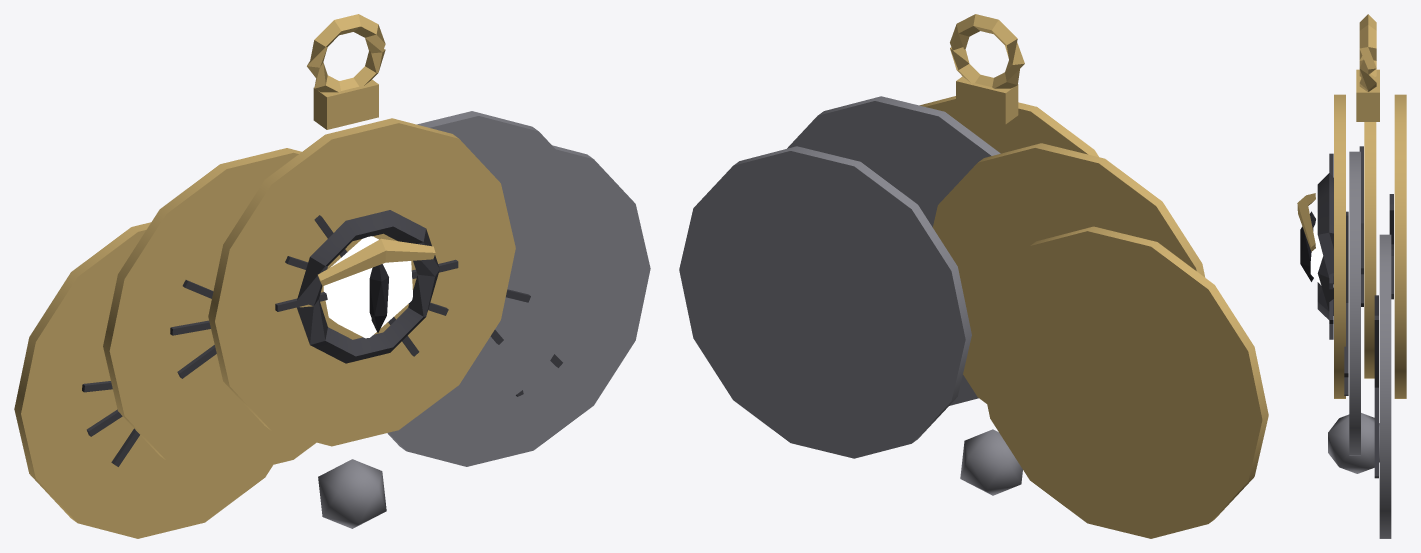
File: astrolabe-almanac.glb
The picture shows the model from 3 angles, left to right: view 1: azimuth 30°, elevation 25°; view 2: azimuth 150°, elevation 25°; view 3: azimuth 270°, elevation 25°; orthographic projection. The views are drawn at different scales.
Parts seen in each view (by area): view 1: astrolabe_almanac; view 2: astrolabe_almanac; view 3: astrolabe_almanac.
Boxes of the visible parts, x1,y1,x2,y2 form: astrolabe_almanac: (14, 14, 650, 538); astrolabe_almanac: (679, 14, 1268, 538); astrolabe_almanac: (1297, 14, 1406, 538).
Size of the model in its own units: 1.14 by 0.8888 by 0.1932.
